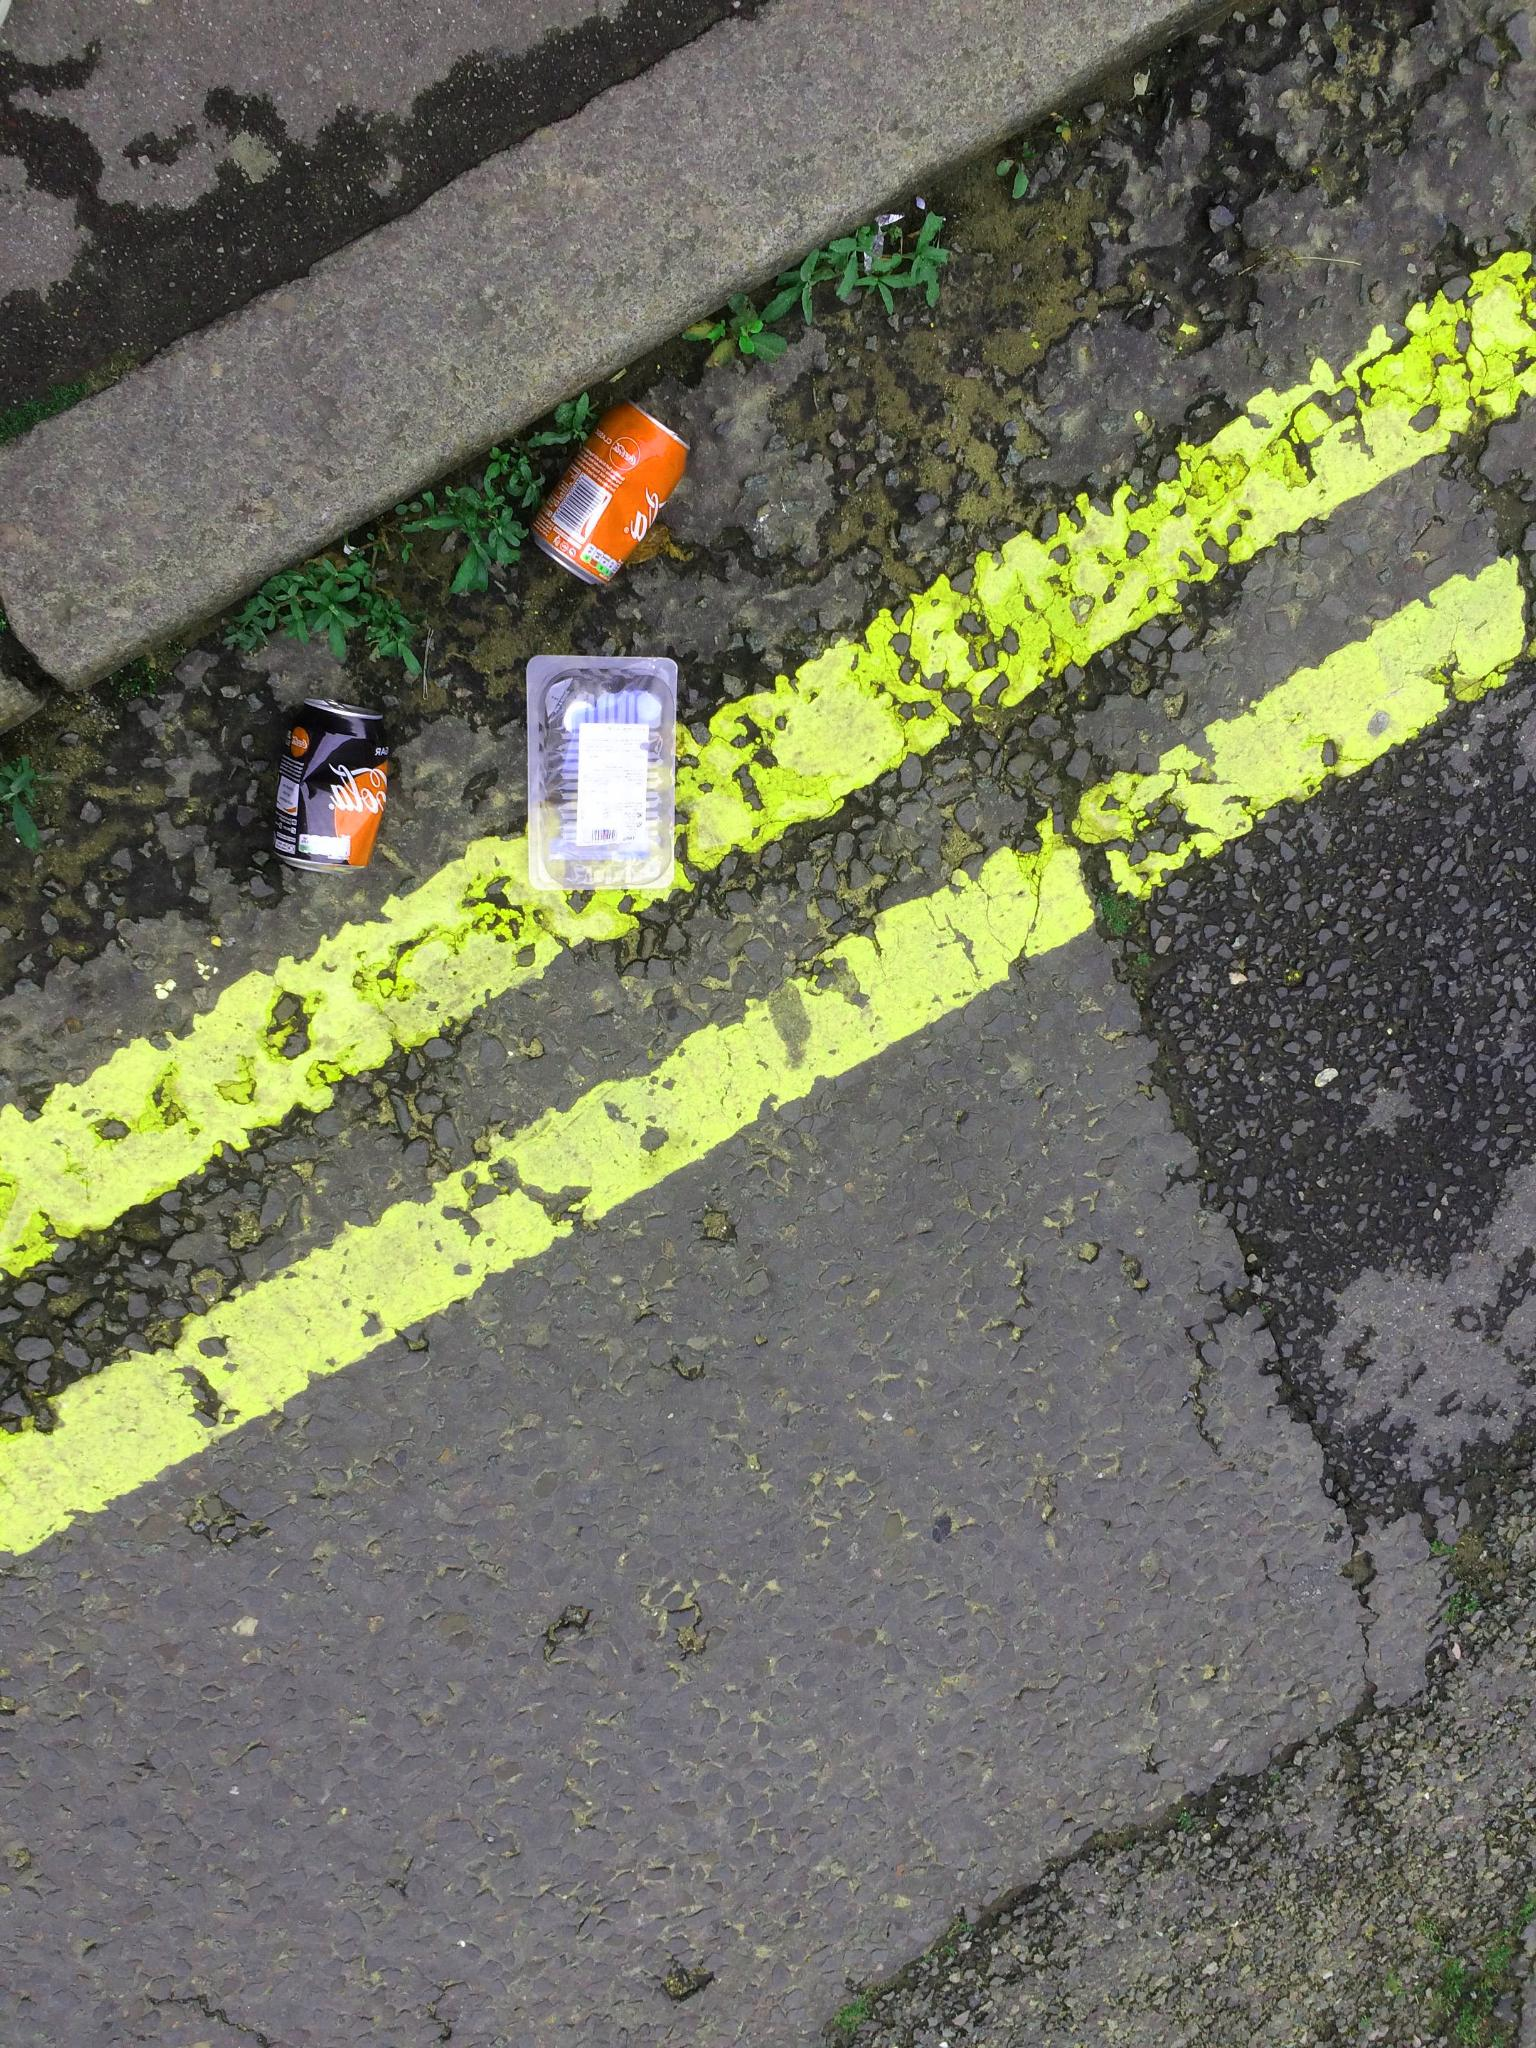Metal: (518, 392, 715, 598), (250, 687, 408, 903)
Plastic: (516, 634, 703, 906)
